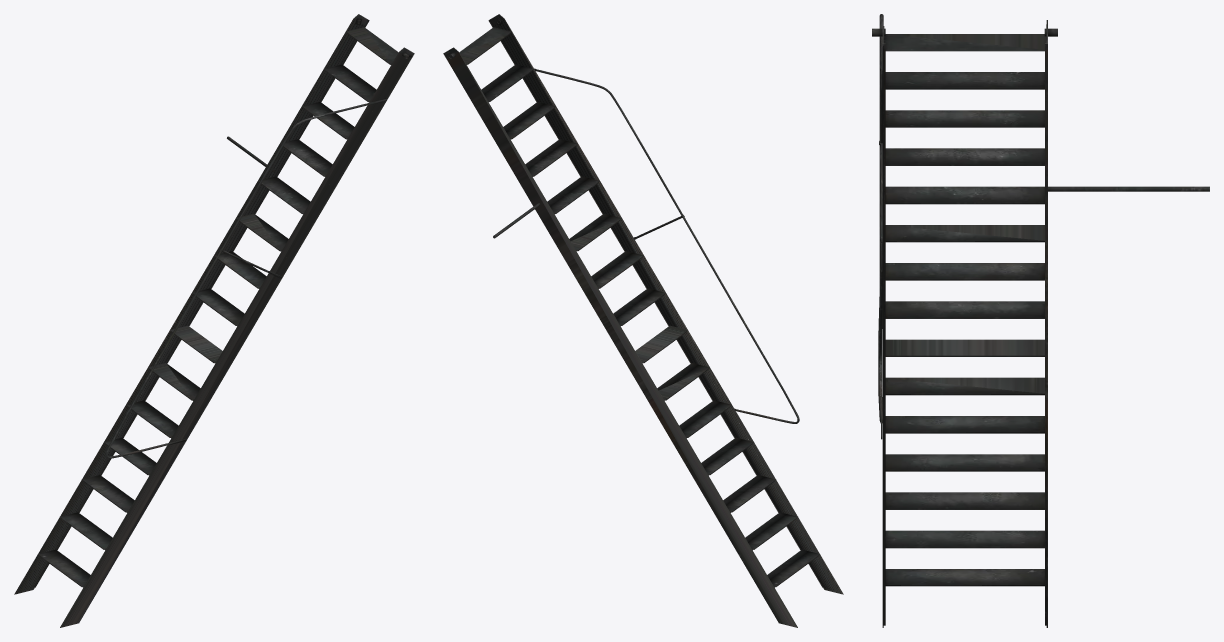
The model's file is modular-fire-escape-stairs.glb.
3 renders of one model, left to right at view 1: azimuth 30°, elevation 25°; view 2: azimuth 150°, elevation 25°; view 3: azimuth 270°, elevation 25°, orthographic. The views are drawn at different scales.
Parts seen in each view (by area): view 1: modular_fire_escape_stairs; view 2: modular_fire_escape_stairs; view 3: modular_fire_escape_stairs.
Boxes of the visible parts, box(x1,y1,x2,y2) form: modular_fire_escape_stairs: box(14, 14, 414, 627); modular_fire_escape_stairs: box(443, 14, 843, 627); modular_fire_escape_stairs: box(872, 14, 1209, 627).
Bounding box in the file's own units: 2.99 × 4.01 × 1.37.
1 material, 1 textured.
